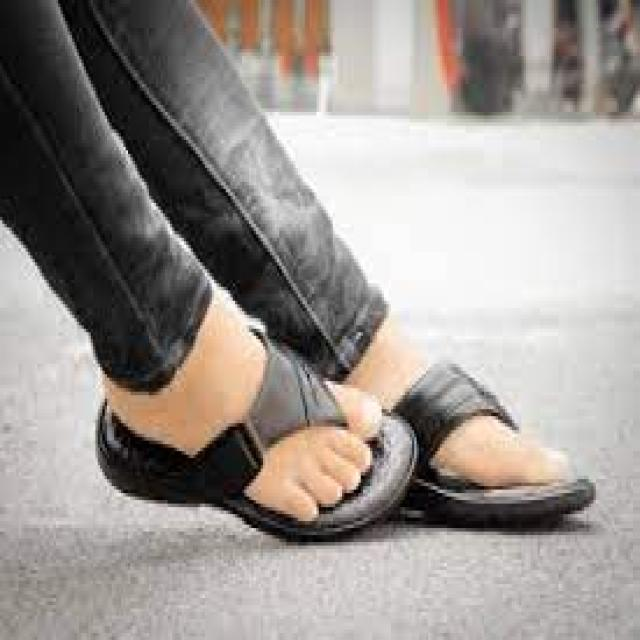Sandals: (97, 311, 417, 543)
